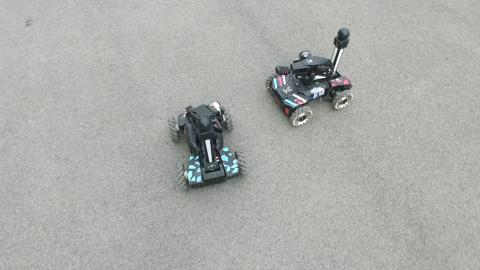chariot: (255, 25, 372, 129), (154, 94, 253, 194)
